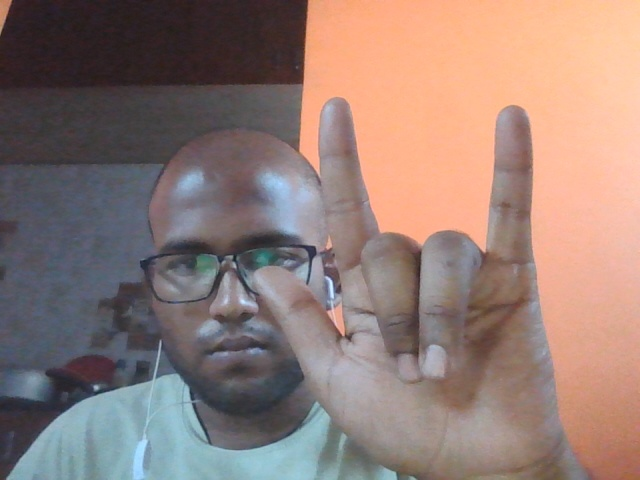iloveyou: (244, 86, 609, 480)
